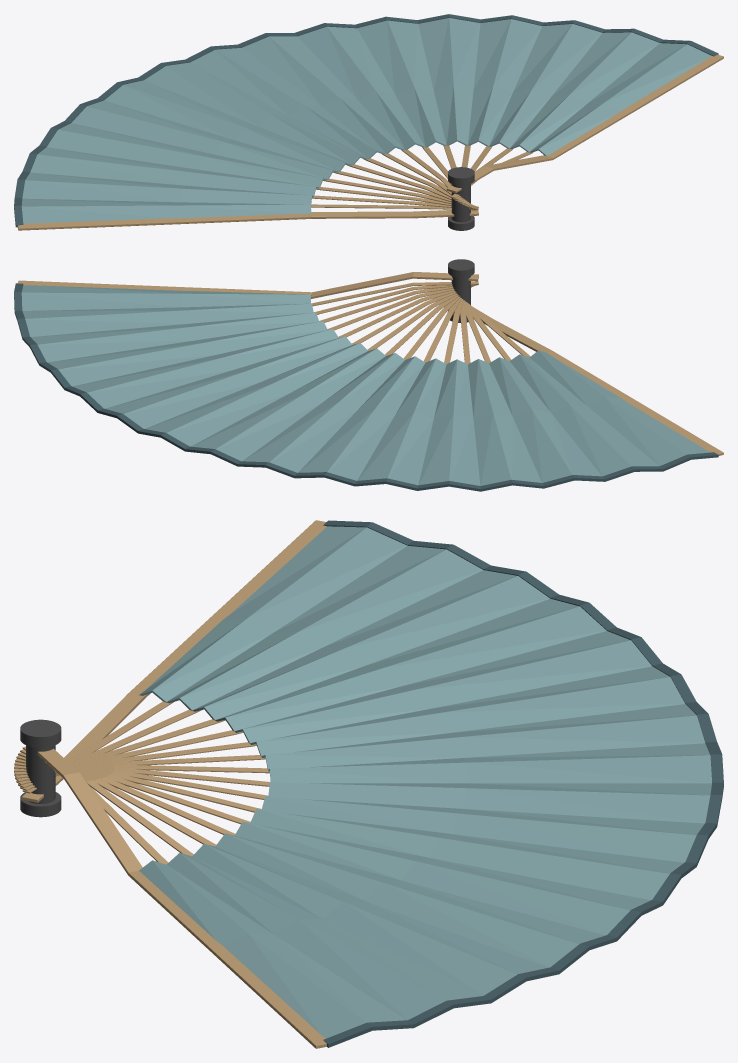
Rendered from full.glb.
3 views of the same model, one above another, from view 1: azimuth 30°, elevation 25°; view 2: azimuth 150°, elevation 25°; view 3: azimuth 270°, elevation 25° (orthographic). The views are drawn at different scales.
Visible parts, largest first — view 1: Continuous pleated leaf, Scalloped outer binding, Left reinforced guard, Right reinforced guard, Single common pivot, Radiating rib 1, Radiating rib 2, Radiating rib 3, Radiating rib 4, Radiating rib 5, Radiating rib 6, Pivot front head (+2 smaller); view 2: Continuous pleated leaf, Scalloped outer binding, Right reinforced guard, Left reinforced guard, Radiating rib 15, Radiating rib 14, Radiating rib 13, Radiating rib 12, Radiating rib 11, Radiating rib 10, Radiating rib 9, Radiating rib 8 (+6 smaller); view 3: Continuous pleated leaf, Scalloped outer binding, Right reinforced guard, Left reinforced guard, Single common pivot, Pivot front head, Radiating rib 12, Radiating rib 13, Radiating rib 11, Radiating rib 10, Radiating rib 14, Radiating rib 9 (+8 smaller).
Boxes of the visible parts, x1,y1,x2,y2 form: Continuous pleated leaf: (21,18,711,223); Scalloped outer binding: (14,14,718,227); Left reinforced guard: (17,210,478,230); Right reinforced guard: (446,54,723,193); Single common pivot: (451,184,470,222); Radiating rib 1: (311,204,478,210); Radiating rib 2: (312,195,478,209); Radiating rib 3: (316,187,478,209); Radiating rib 4: (323,178,477,209); Radiating rib 5: (333,171,476,208); Radiating rib 6: (345,164,475,208); Pivot front head: (448,167,474,185); Continuous pleated leaf: (21,285,709,485); Scalloped outer binding: (14,283,718,491); Right reinforced guard: (18,272,478,298); Left reinforced guard: (473,307,723,455); Radiating rib 15: (311,281,478,306); Radiating rib 14: (314,284,478,314); Radiating rib 13: (319,284,478,322); Radiating rib 12: (327,285,477,330); Radiating rib 11: (338,286,473,337); Radiating rib 10: (352,286,472,344); Radiating rib 9: (367,293,457,350); Radiating rib 8: (385,295,459,355); Continuous pleated leaf: (139,526,712,1038); Scalloped outer binding: (323,520,723,1047); Right reinforced guard: (37,748,326,1048); Left reinforced guard: (22,520,326,802); Single common pivot: (26,745,55,803); Pivot front head: (20,719,61,747); Radiating rib 12: (16,755,235,835); Radiating rib 13: (18,752,216,846); Radiating rib 11: (15,758,250,824); Radiating rib 10: (14,762,261,812); Radiating rib 14: (20,749,193,856); Radiating rib 9: (14,765,267,799).
Size of the model in its own units: 0.4225 by 0.03 by 0.2411.
